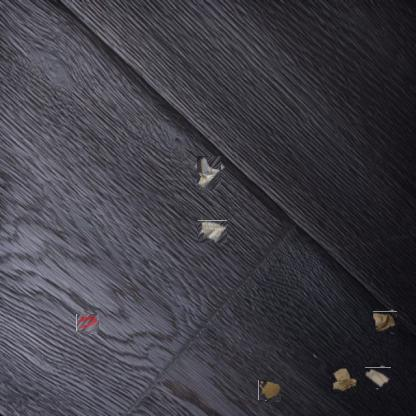dirty: (195, 157, 223, 187), (197, 220, 227, 243), (332, 367, 358, 393), (367, 366, 390, 390), (374, 310, 397, 333)
liquid: (259, 380, 281, 401), (78, 312, 98, 333)
